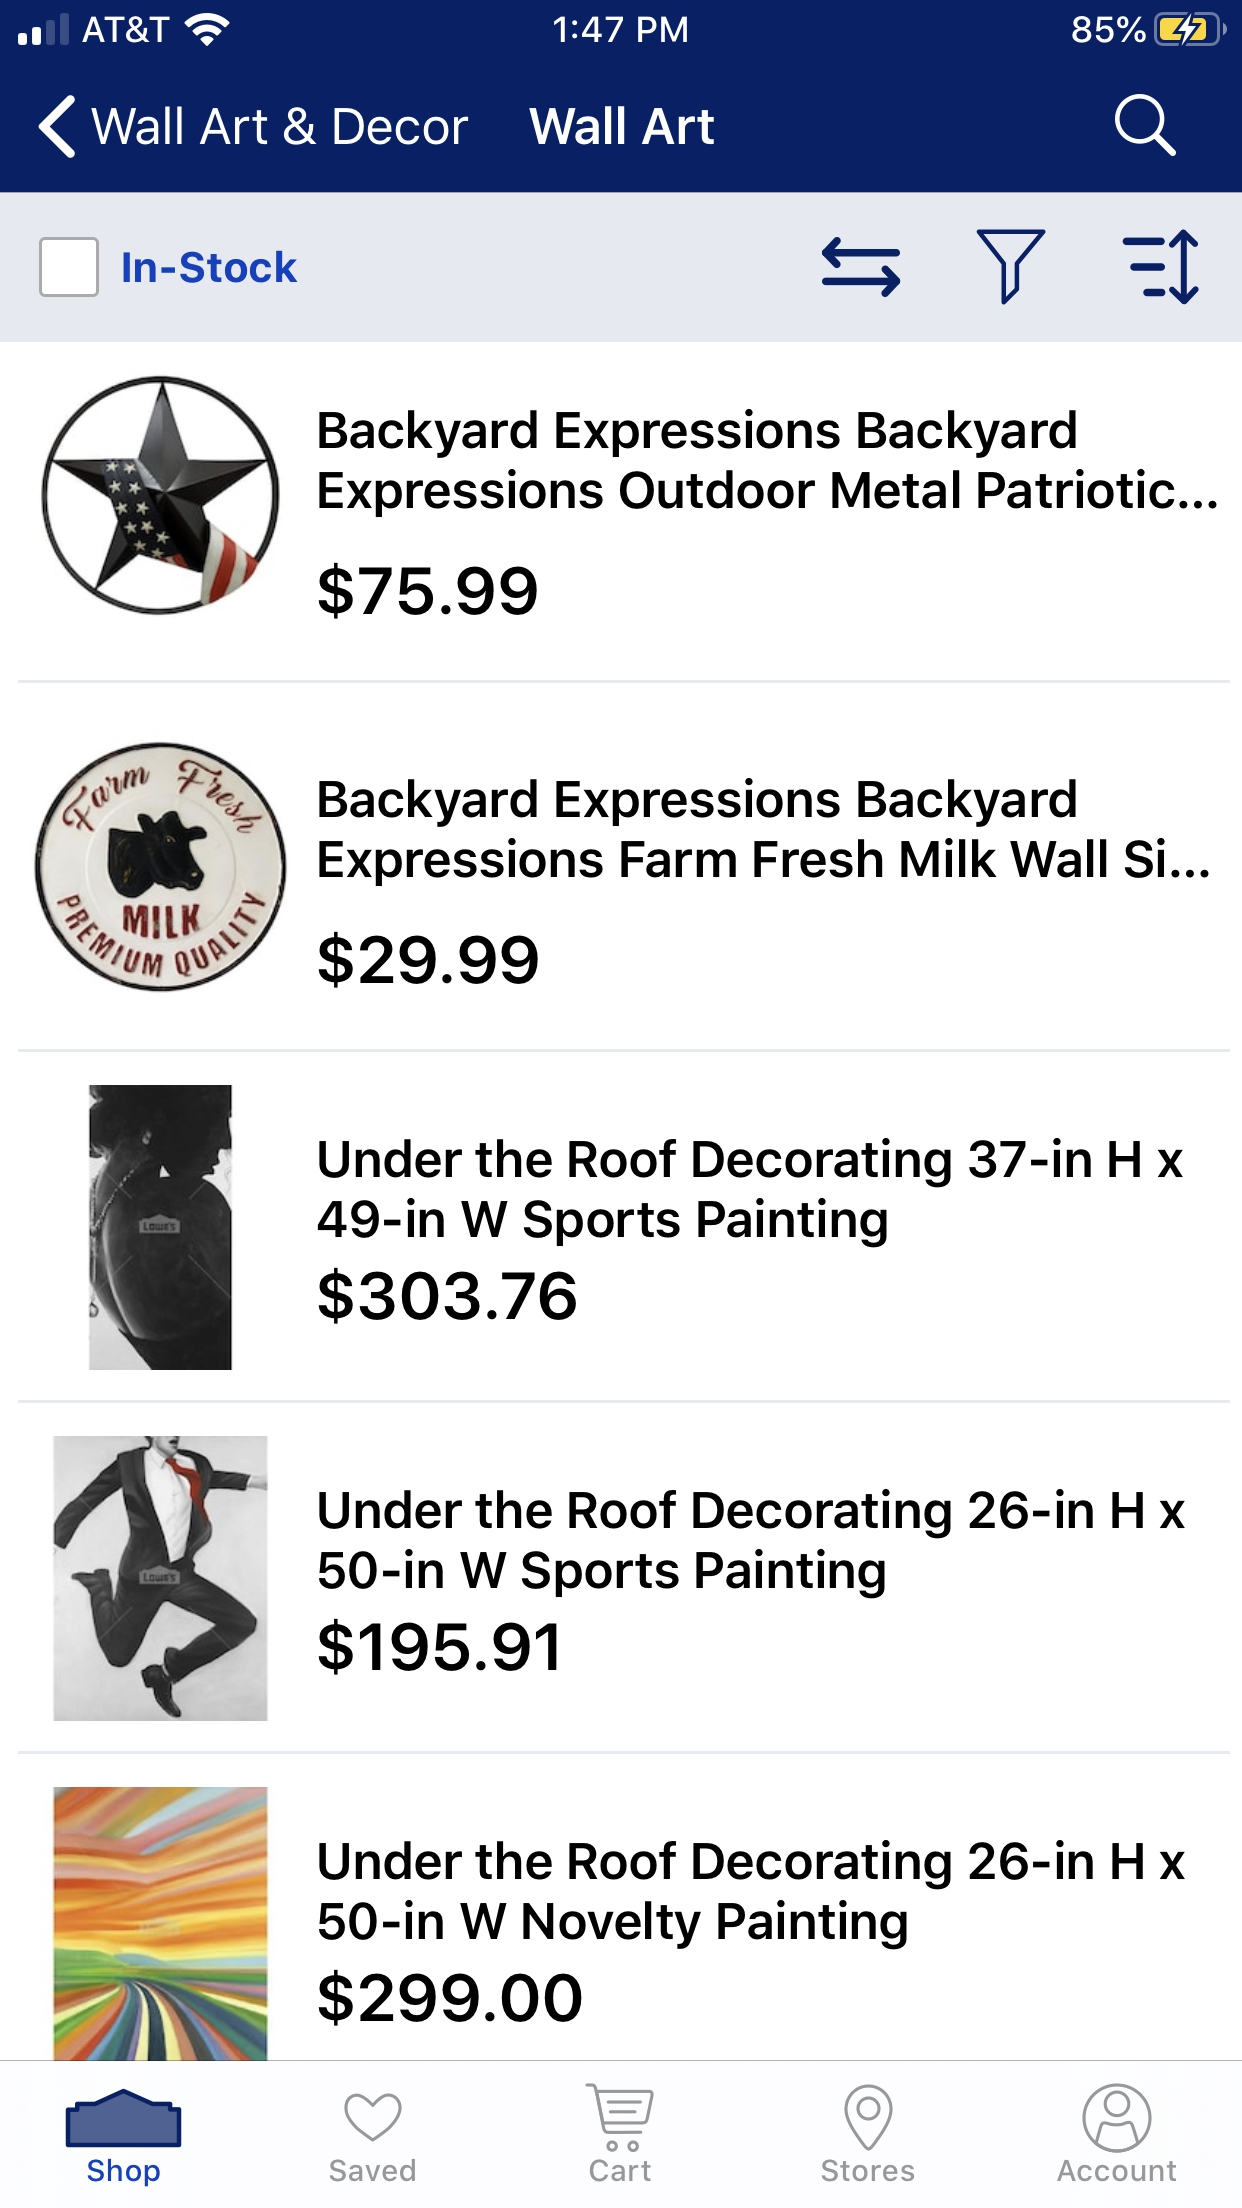CheckedTextView: (39, 237, 299, 299)
Icon: (1122, 229, 1200, 306), (820, 237, 901, 299), (1081, 2084, 1153, 2153), (585, 2084, 654, 2152), (1115, 94, 1175, 158), (845, 2084, 895, 2150), (344, 2093, 403, 2141), (39, 96, 76, 159)
Image: (35, 743, 287, 993), (55, 1438, 268, 1721), (55, 1786, 268, 2061), (42, 376, 281, 616), (89, 1086, 234, 1369), (67, 2088, 182, 2147), (977, 229, 1046, 306)
Text: (318, 778, 1209, 889), (318, 409, 1218, 519), (318, 1839, 1186, 1950), (318, 1137, 1183, 1248), (318, 1489, 1186, 1598), (318, 1968, 582, 2026), (318, 1268, 576, 1325), (93, 108, 469, 146), (318, 1618, 558, 1677), (318, 563, 538, 620), (318, 933, 538, 989), (529, 108, 714, 146), (123, 252, 299, 284), (1057, 2159, 1175, 2182), (822, 2158, 916, 2182), (86, 2158, 161, 2187), (331, 2159, 417, 2184), (588, 2158, 652, 2184)
UpperTaskBar: (2, 2, 1242, 49)
